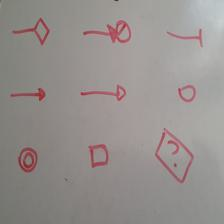association: (178, 84, 197, 103)
control: (12, 17, 50, 45)
degradation: (82, 19, 132, 43)
dissociation: (18, 146, 38, 174)
inhibition: (167, 27, 204, 47)
process: (88, 142, 109, 167)
replacement-glyph: (154, 127, 194, 182)
stimulation: (79, 83, 127, 100)
